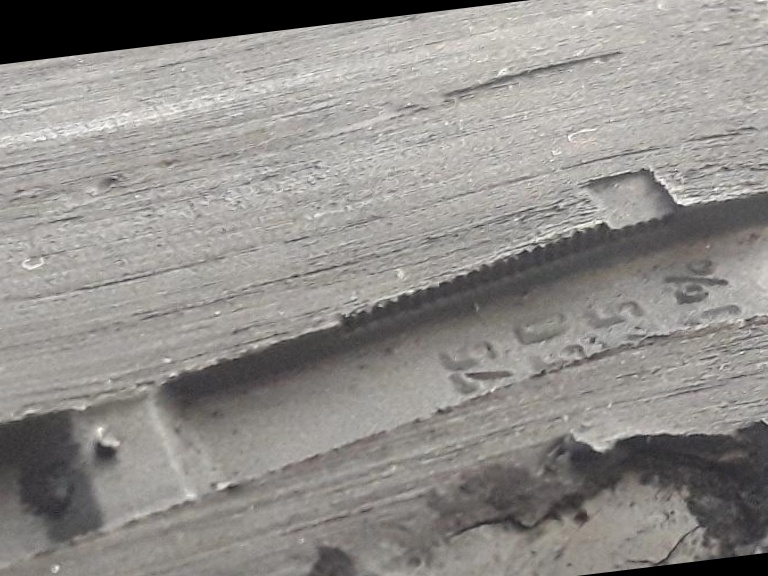temoin:0: (563, 143, 697, 283)
